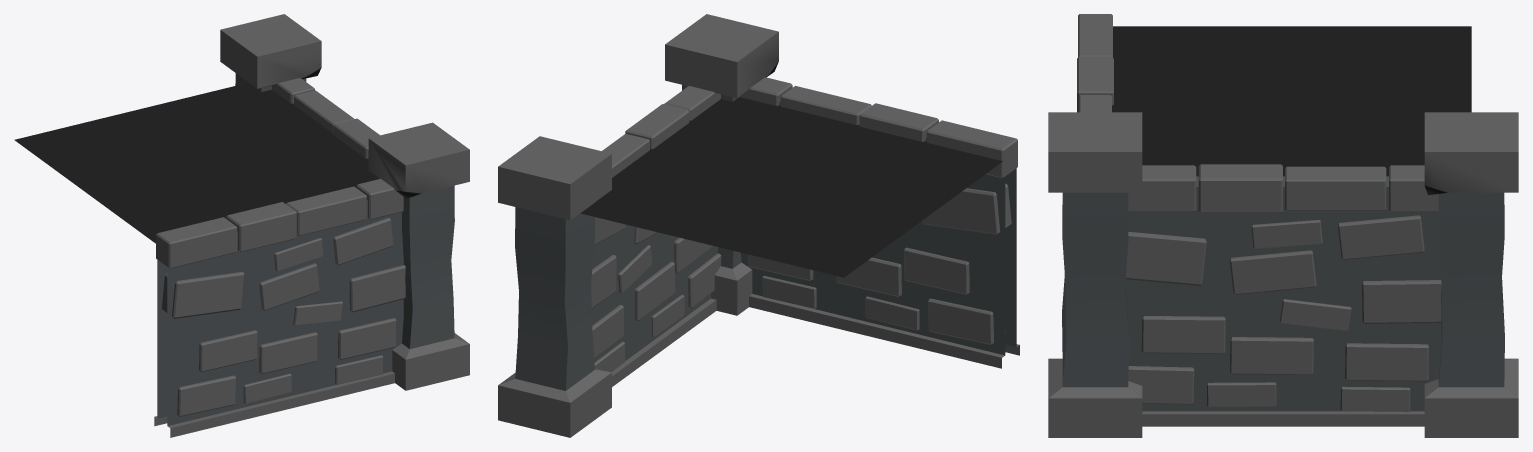
The model's file is WallCorner.fbx.
3 renders of one model, left to right at view 1: azimuth 30°, elevation 25°; view 2: azimuth 150°, elevation 25°; view 3: azimuth 270°, elevation 25°, orthographic. The views are drawn at different scales.
Visible parts, largest first — view 1: WallCorner; view 2: WallCorner; view 3: WallCorner.
Boxes of the visible parts, box(x1,y1,x2,y2) form: WallCorner: box(14, 14, 469, 437); WallCorner: box(498, 14, 1019, 437); WallCorner: box(1048, 14, 1518, 437).
Bounding box in the file's own units: 4.5 × 3.35 × 5.
1 material, 1 textured.
